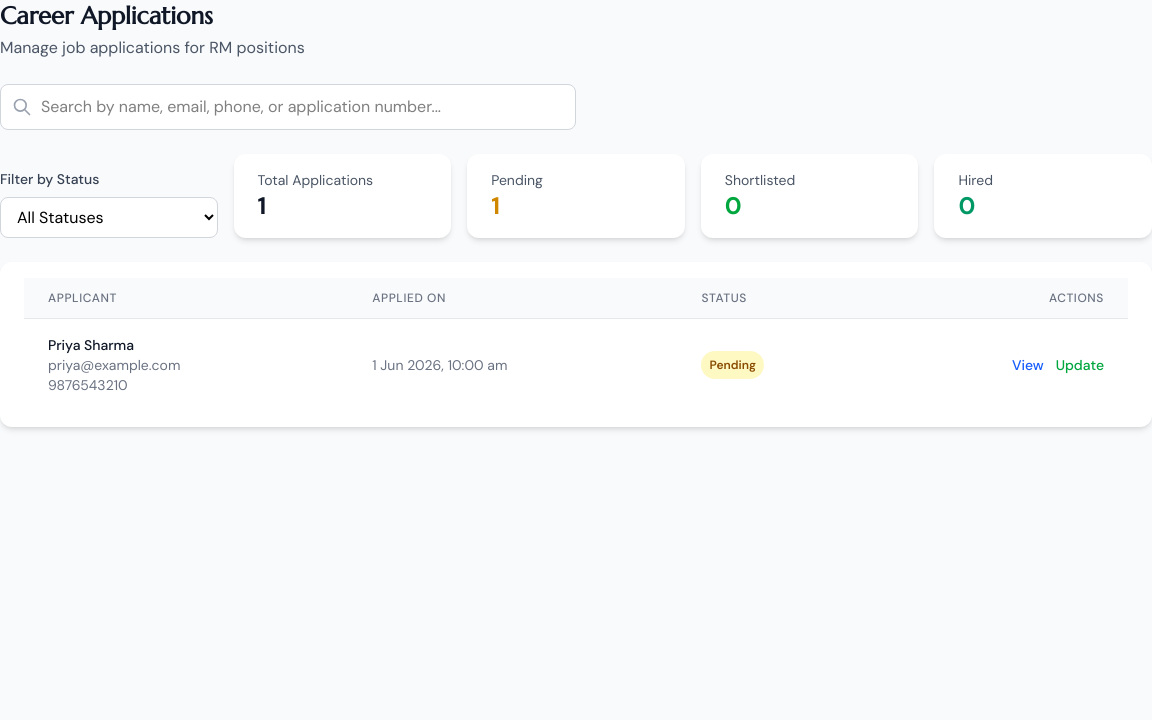
Test case: CareerApplications (admin) › updates status via PATCH and reflects it after refetch
This screenshot has width=1152, height=720.
Check: the text "Priya Sharma" is shown, box [48, 336, 134, 354]
Click the button "Update" at x=1080, y=365, box [1056, 355, 1104, 375]
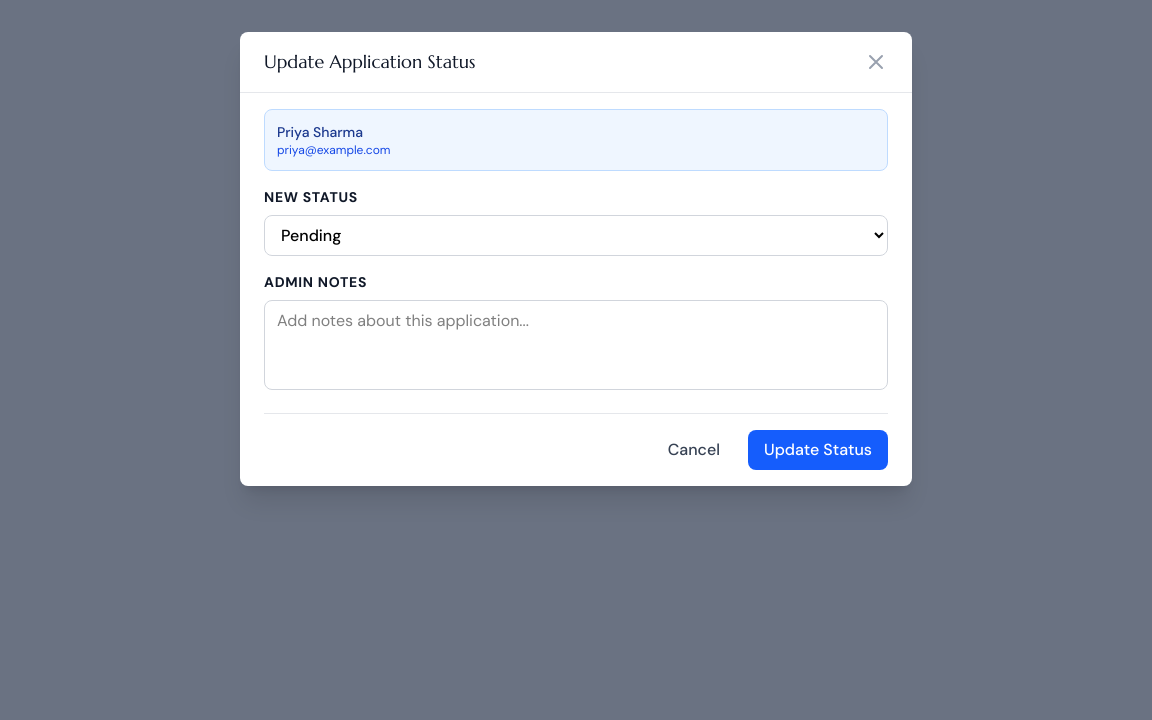
Select "Shortlisted" in the dropdown at x=576, y=236, box [264, 215, 888, 256]
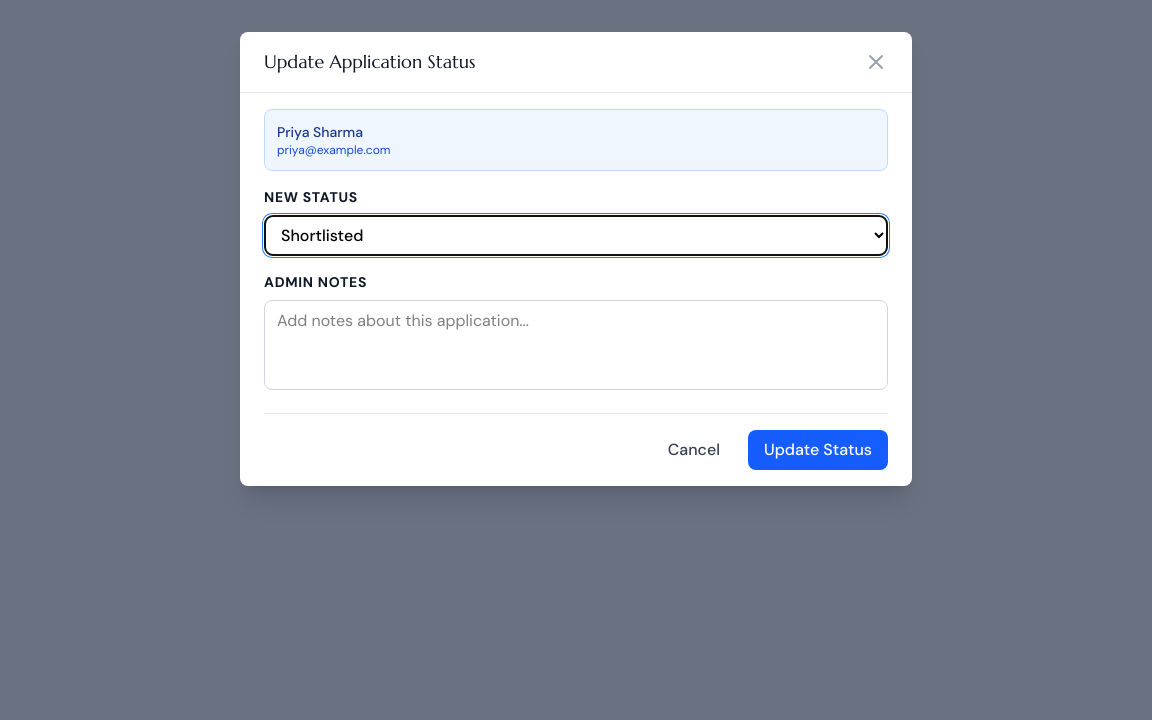
Click the button "Update Status" at x=818, y=450, box [748, 430, 888, 470]
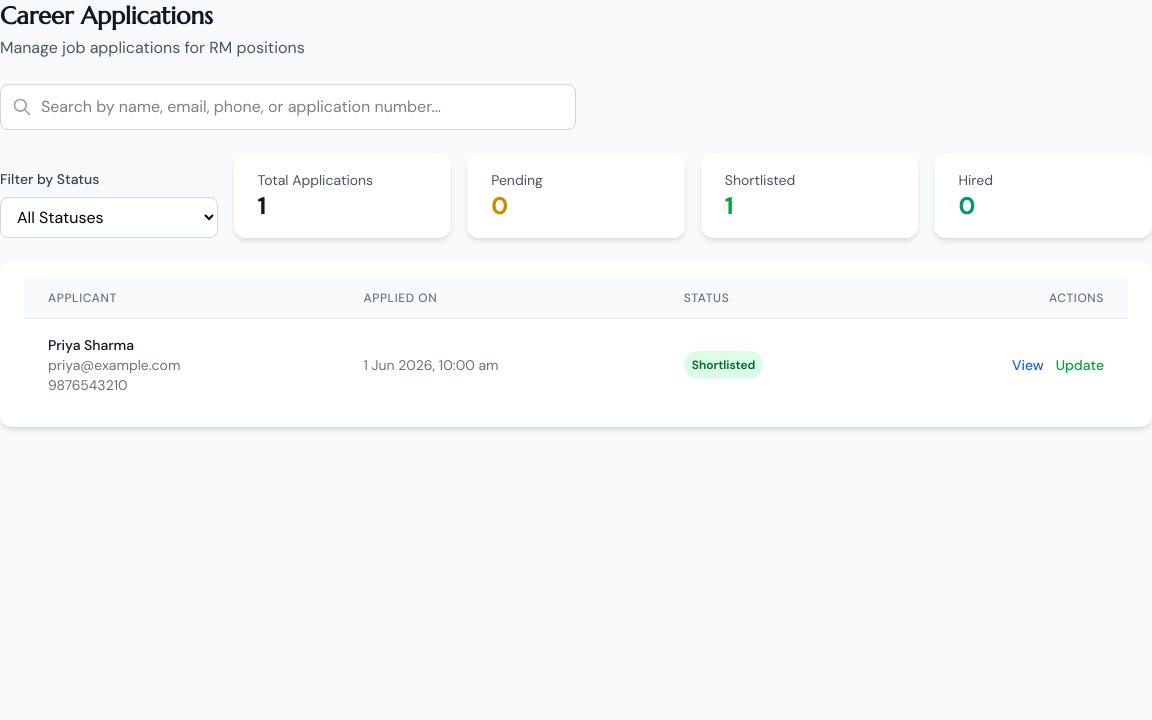
Check: the text "Shortlisted" in the row of "Priya Sharma" is shown, box [692, 357, 755, 373]
